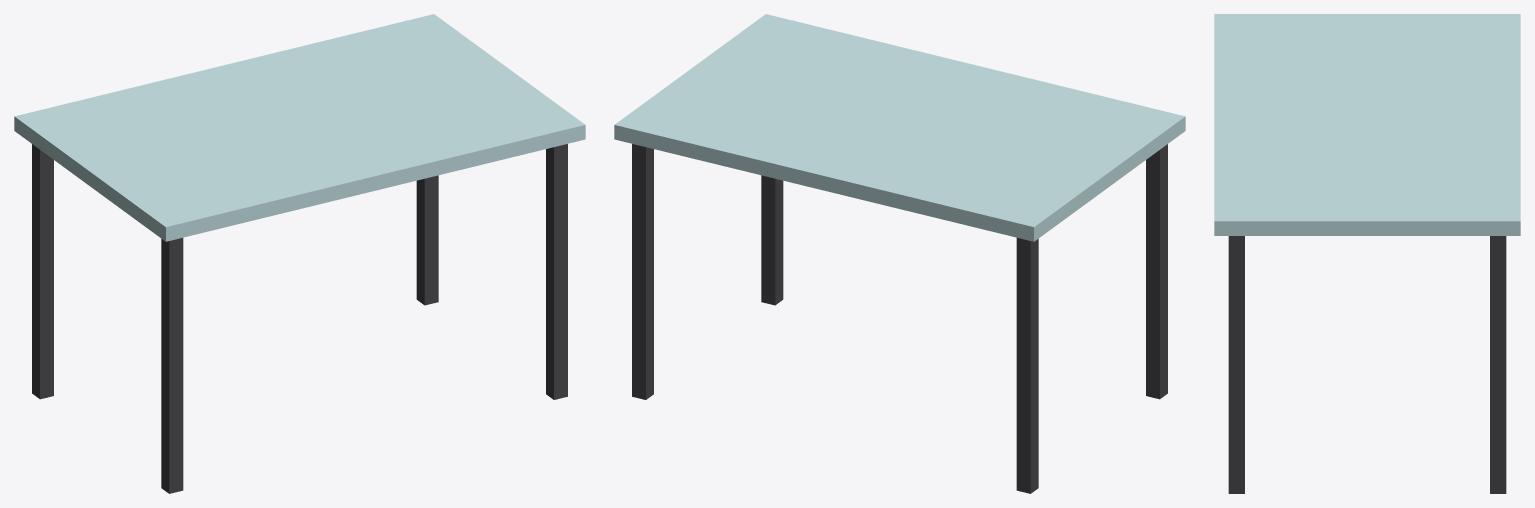
File: prop.table.glb
The picture shows the model from 3 angles, left to right: view 1: azimuth 30°, elevation 25°; view 2: azimuth 150°, elevation 25°; view 3: azimuth 270°, elevation 25°; orthographic projection.
Parts seen in each view (by area): view 1: prop.table; view 2: prop.table; view 3: prop.table.
Part boxes in pixels (x1,y1,x2,y2): prop.table: (14,14,585,493); prop.table: (614,14,1185,493); prop.table: (1214,14,1520,493).
Bounding box in the file's own units: 1.2 × 0.75 × 0.75.
